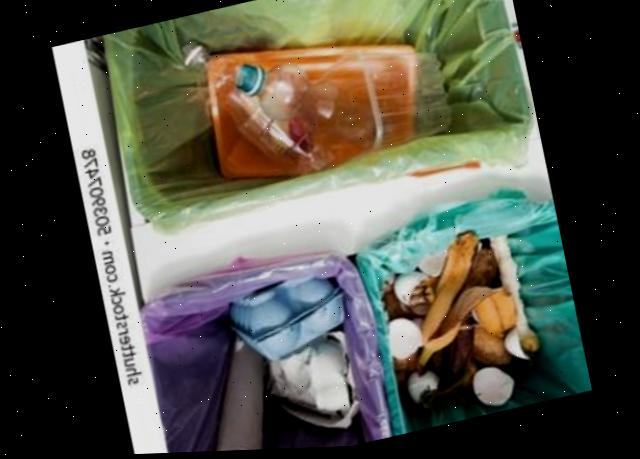Disposable: (230, 279, 342, 361)
Garbage: (171, 27, 554, 453)
Plastic: (207, 48, 450, 178)
contaminated_waste: (207, 41, 454, 174)
top_view_waste: (103, 0, 532, 231), (355, 195, 590, 438), (141, 256, 392, 454)
